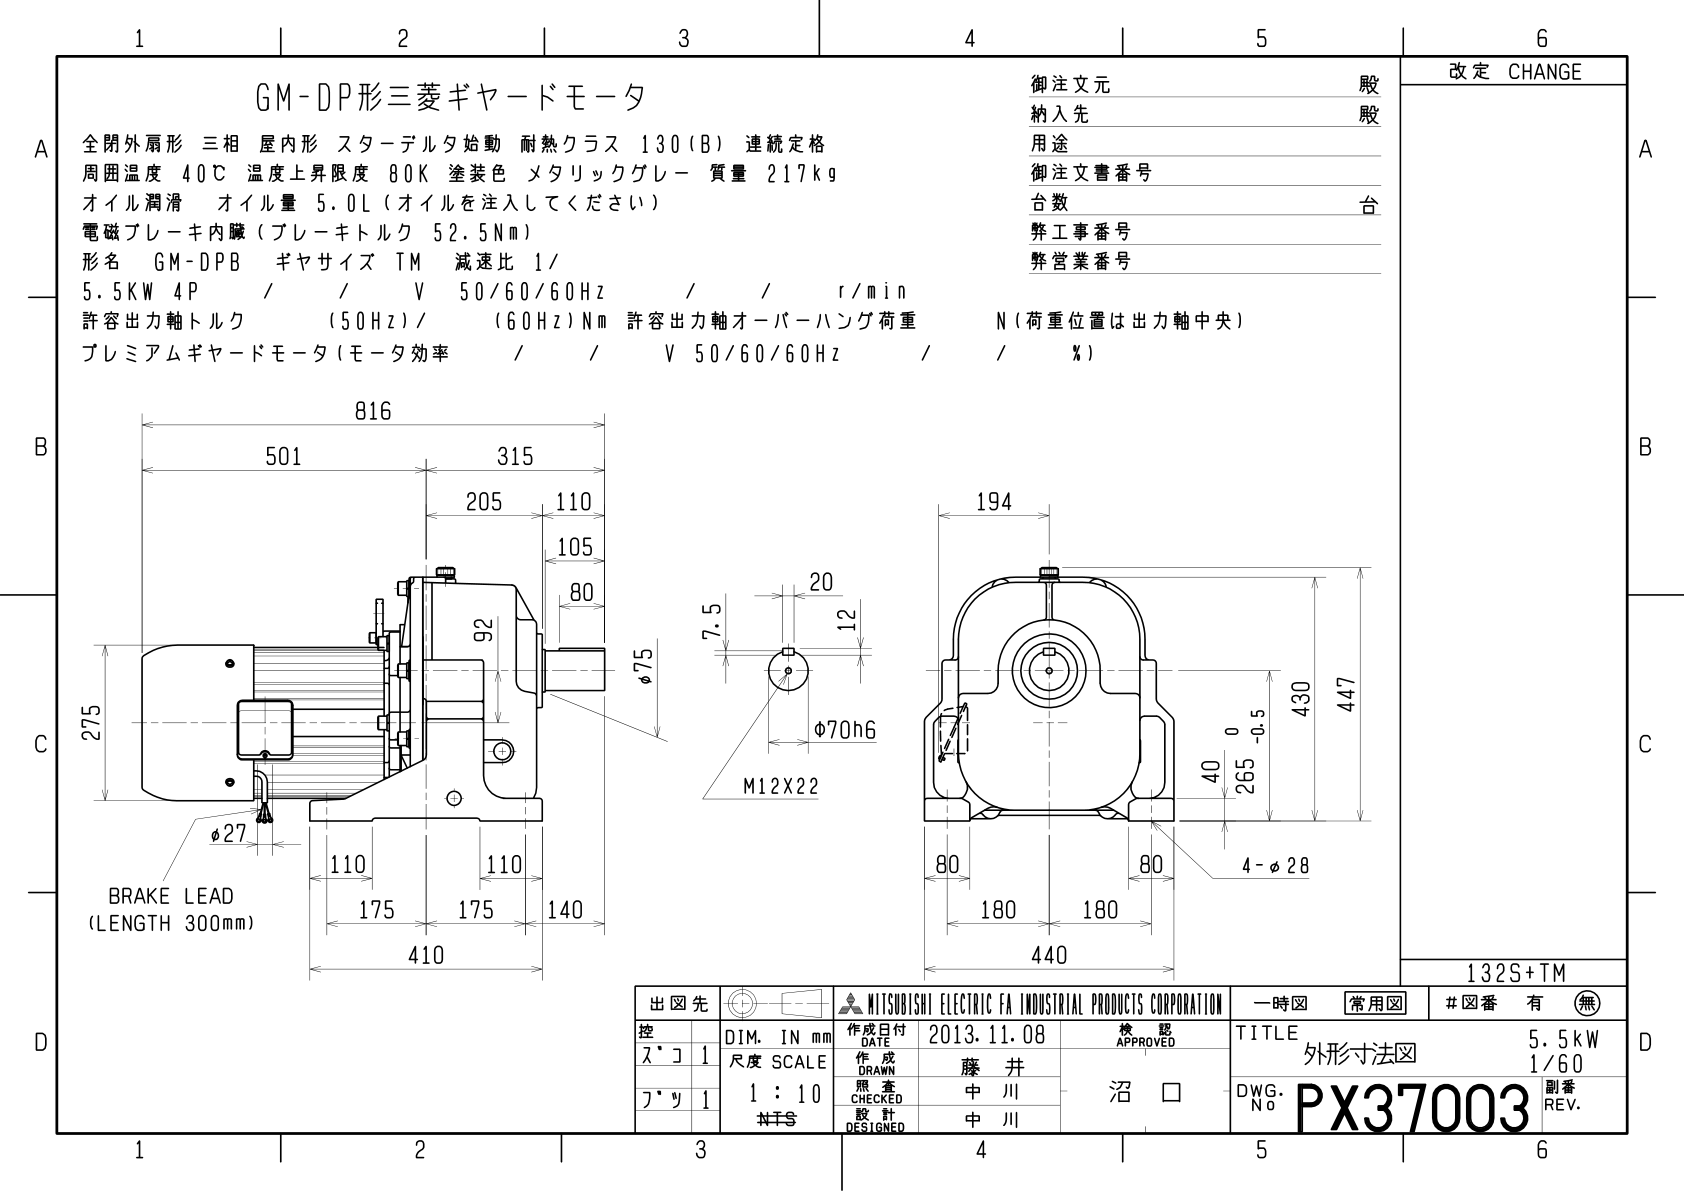GM_DP_屋内_三相_脚: (75, 385, 1381, 973)
